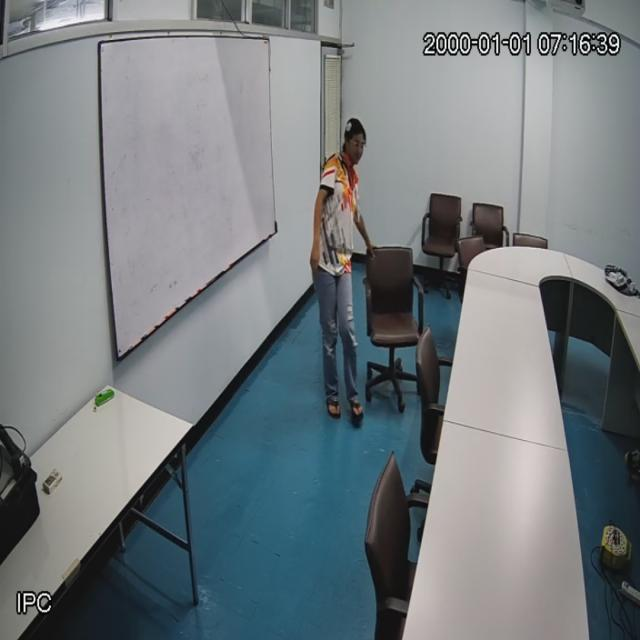normal: (310, 114, 380, 432)
